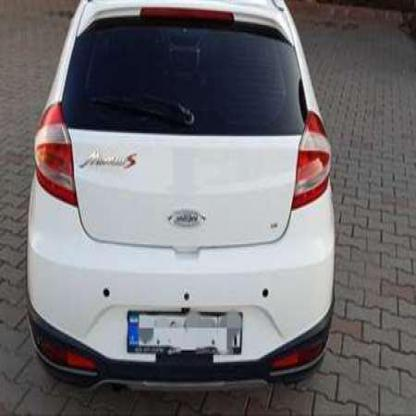car: (25, 0, 329, 395)
